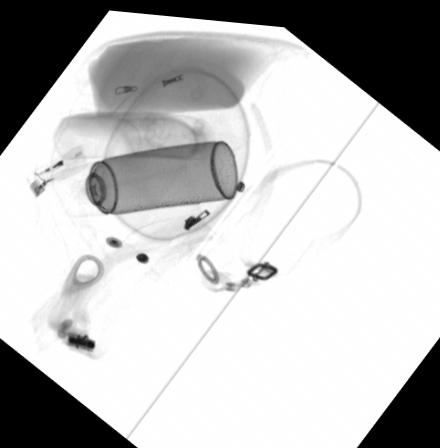Lighter: (21, 142, 86, 197)
Sprayer: (50, 135, 237, 215)
